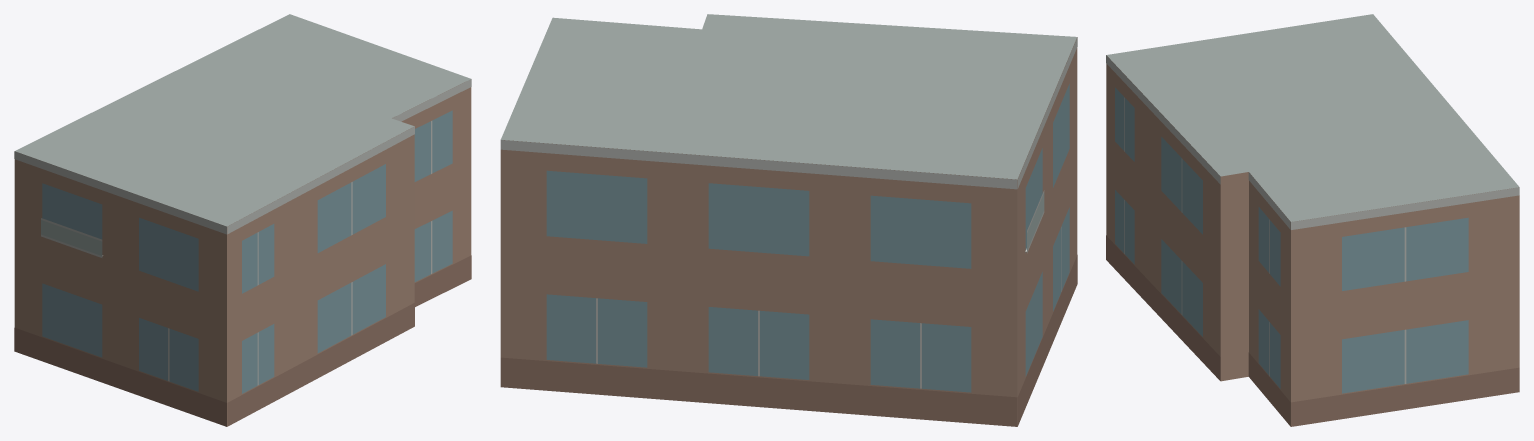
The model's file is survey-upis-32649280.glb.
The picture shows the model from 3 angles, left to right: view 1: azimuth 30°, elevation 25°; view 2: azimuth 150°, elevation 25°; view 3: azimuth 270°, elevation 25°; orthographic projection. The views are drawn at different scales.
Visible parts, largest first — view 1: survey-upis-32649280.tmp; view 2: survey-upis-32649280.tmp; view 3: survey-upis-32649280.tmp.
Part boxes in pixels (box(x1,y1,x2,y2)): survey-upis-32649280.tmp: box(14, 14, 471, 426); survey-upis-32649280.tmp: box(500, 14, 1077, 426); survey-upis-32649280.tmp: box(1106, 14, 1519, 426).
Bounding box in the file's own units: 13.29 × 6.1 × 11.17.
